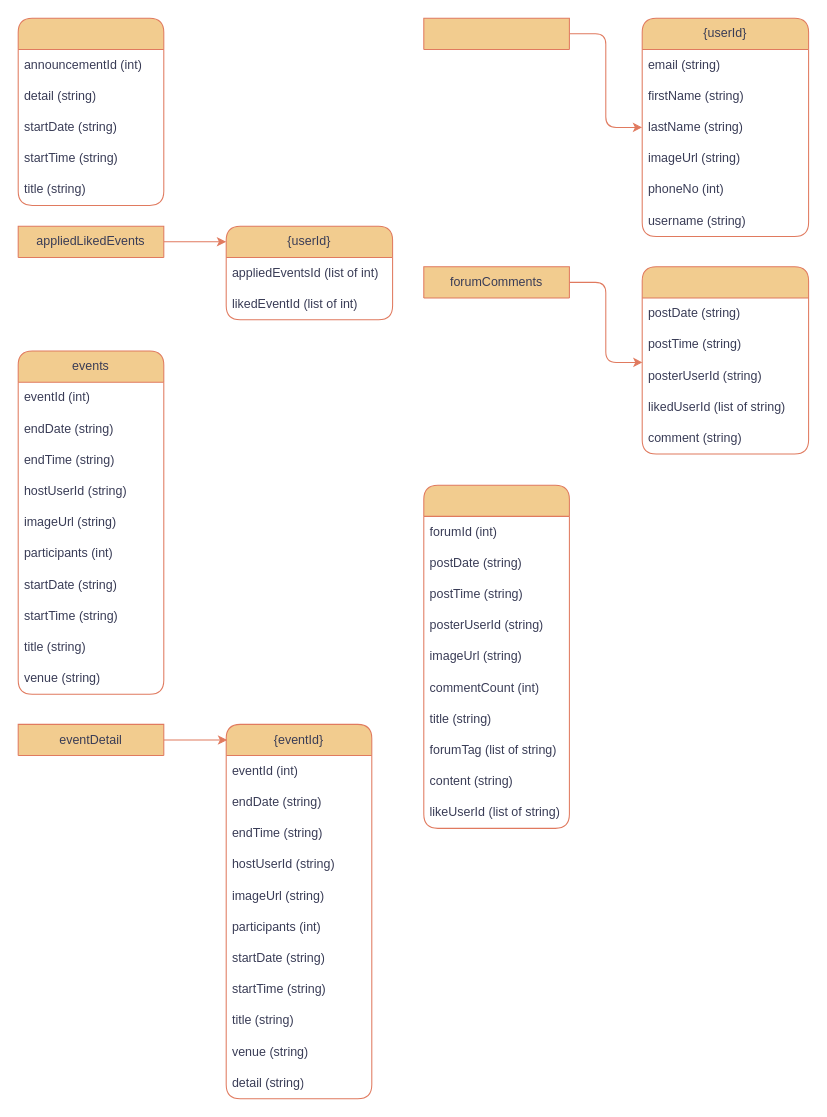
Some shapes in this 827 by 1117 pixel diagram are drawn without their labels. The box of each missing label's shape, as (x1, y1, x2, y2) in pixels:
announcements: (17, 17, 164, 205)
forums: (423, 484, 569, 828)
user: (423, 17, 569, 49)
{forumId}: (641, 266, 809, 454)
